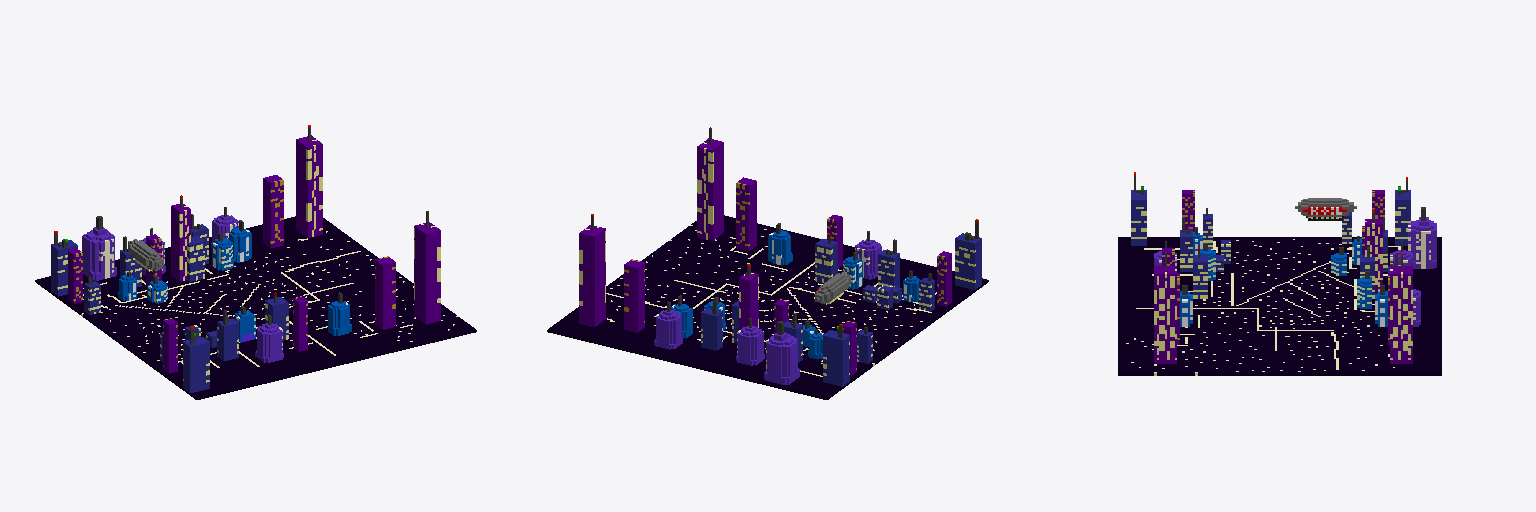
The picture shows the model from 3 angles: view 1: azimuth 30°, elevation 25°; view 2: azimuth 150°, elevation 25°; view 3: azimuth 270°, elevation 25°; orthographic projection.
Visible parts, largest first — view 1: skybox_city; view 2: skybox_city; view 3: skybox_city.
Part boxes in pixels (x1,y1,x2,y2): skybox_city: (35,125,476,399); skybox_city: (547,127,988,399); skybox_city: (1118,172,1441,375).
Bounding box in the file's own units: 126 × 50 × 126.
Materials: 1 (1 with a texture image).